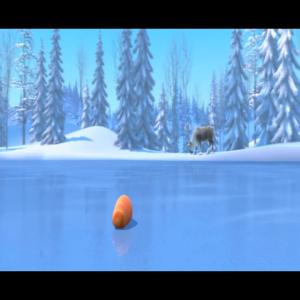carrot: (107, 193, 140, 232)
